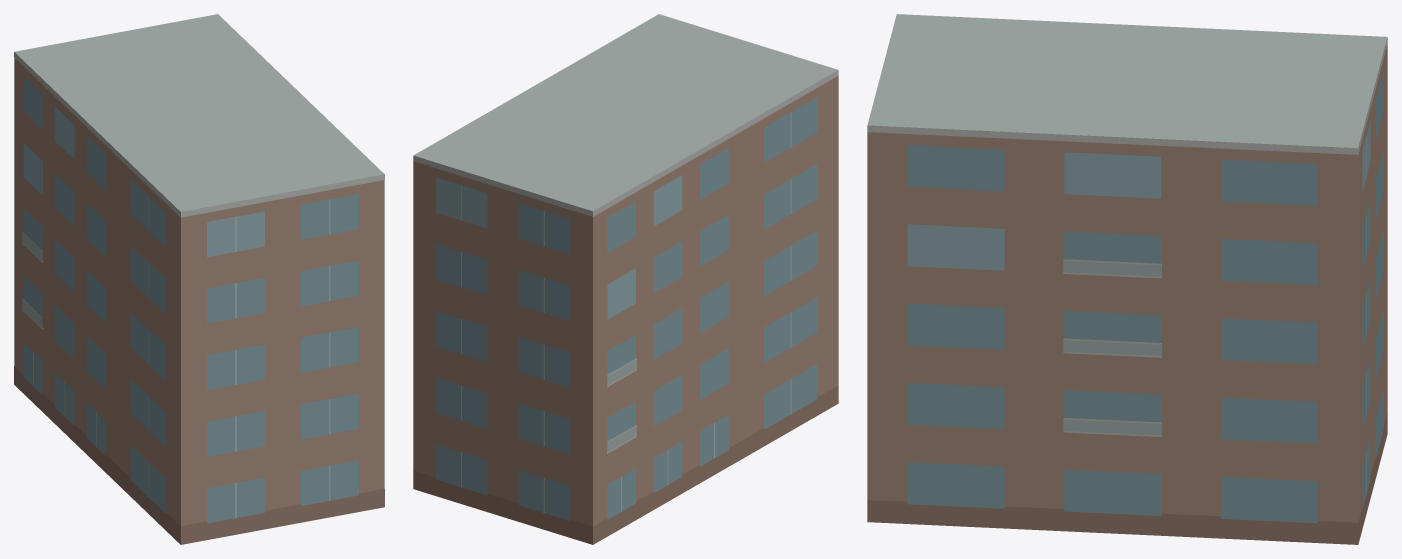
Rendered from survey-upis-32635587.glb.
The picture shows the model from 3 angles, left to right: view 1: azimuth 30°, elevation 25°; view 2: azimuth 150°, elevation 25°; view 3: azimuth 270°, elevation 25°; orthographic projection. The views are drawn at different scales.
Visible parts, largest first — view 1: survey-upis-32635587.tmp; view 2: survey-upis-32635587.tmp; view 3: survey-upis-32635587.tmp.
Boxes of the visible parts, x1,y1,x2,y2 form: survey-upis-32635587.tmp: [14, 14, 384, 544]; survey-upis-32635587.tmp: [413, 14, 838, 544]; survey-upis-32635587.tmp: [867, 14, 1387, 544].
Size of the model in its own units: 10.54 by 14.5 by 17.25.
